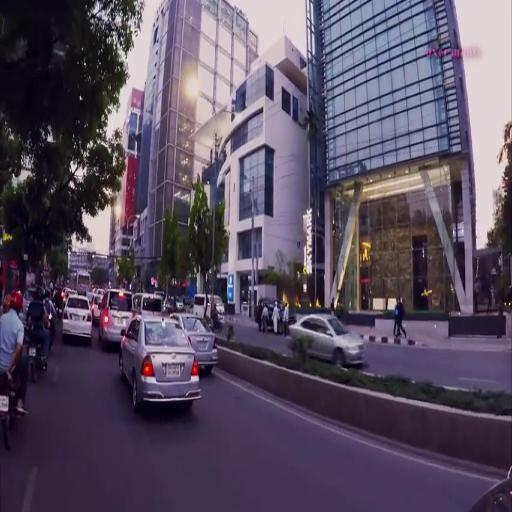bus: (75, 270, 92, 294)
car: (118, 316, 202, 410), (286, 314, 366, 367), (172, 311, 219, 369), (62, 294, 93, 342), (91, 293, 102, 319)
minivan: (99, 288, 135, 343), (133, 291, 164, 321)
motorbike: (1, 366, 27, 448), (27, 321, 50, 382)
suv: (256, 296, 295, 330)
van: (193, 291, 226, 325)
